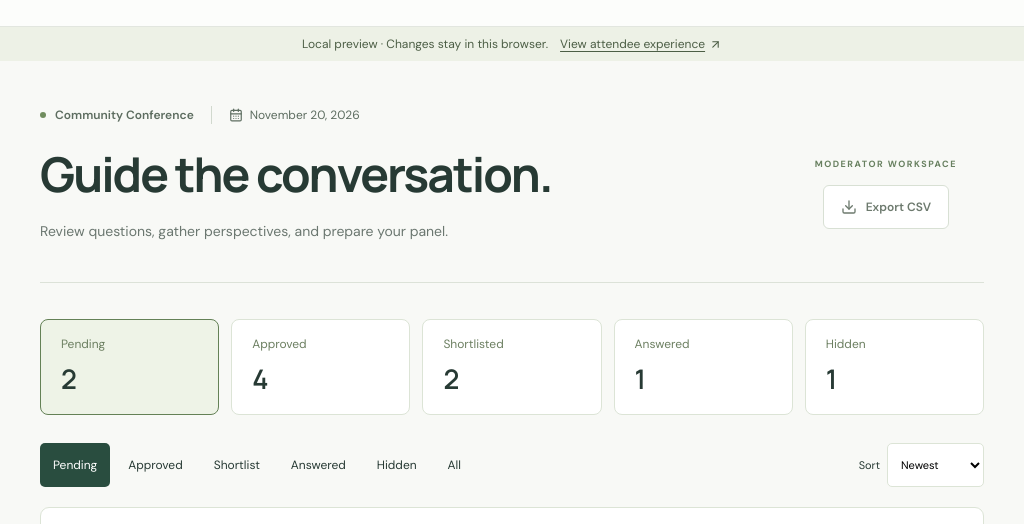
Scenario: event configuration › uses overridden moderator labels without changing moderation actions
Expected: the text "Community Conference" is shown, [55,107,194,123]
Click the button "All" at (454, 465), box [435,443,474,487]
(page scrolled)
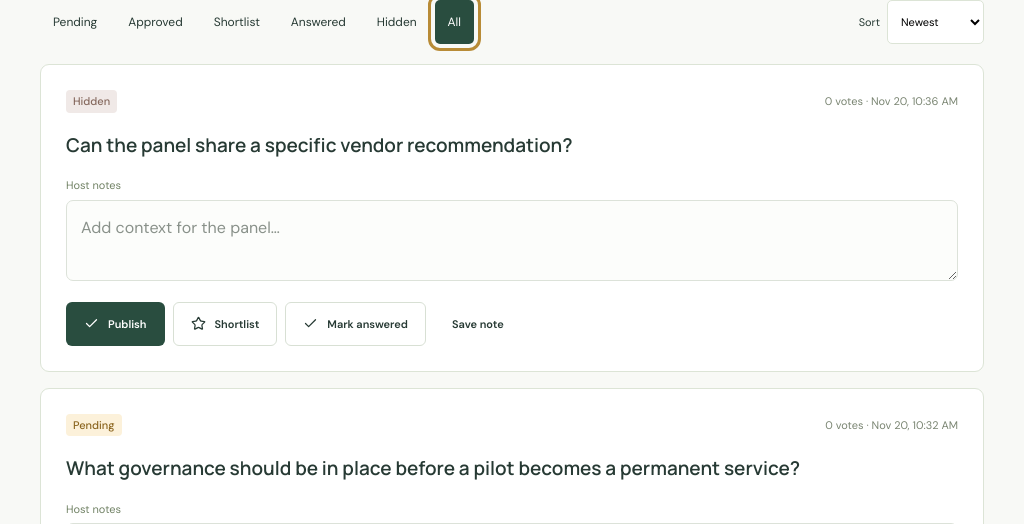
Click the 1st button "Publish" at (115, 324), box [66,302,164,346]
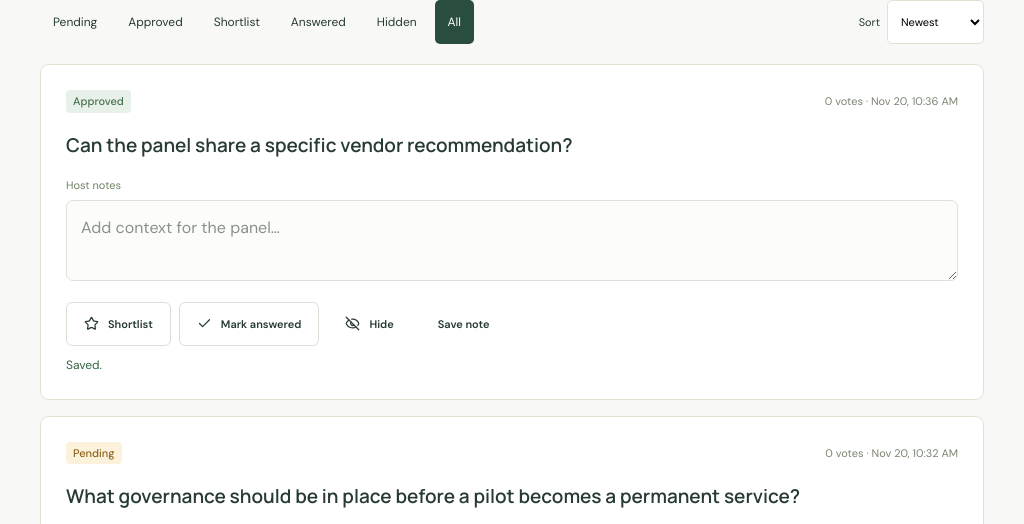
Expected: the text "Saved." is shown, [66,357,102,373]
